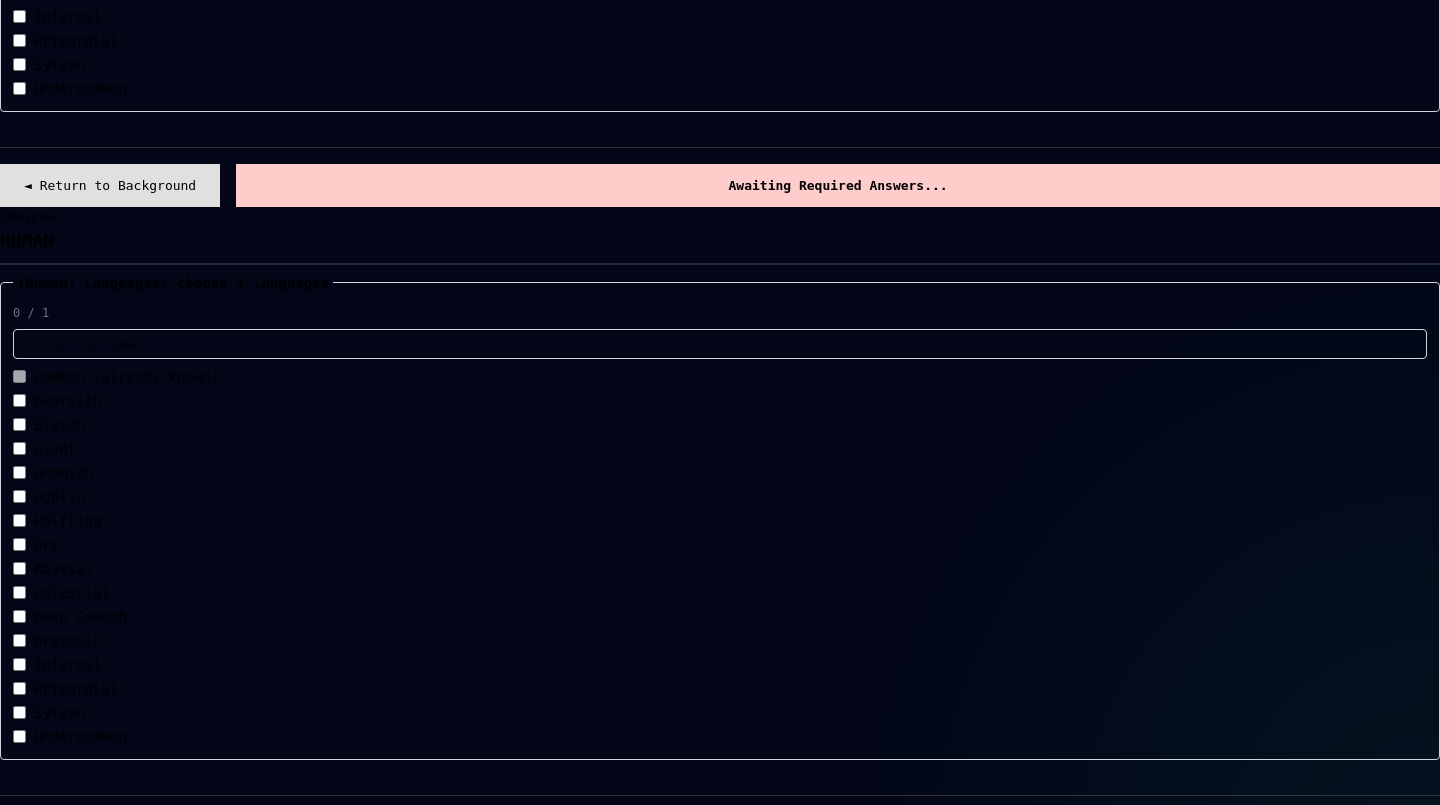
Test case: ChoicesStepContainer › disables Next until every question is answered, then enables it
(page scrolled)
Click the checkbox labelled "Dwarvish" at coordinates (20, 400), box [13, 394, 26, 407]
(page scrolled)
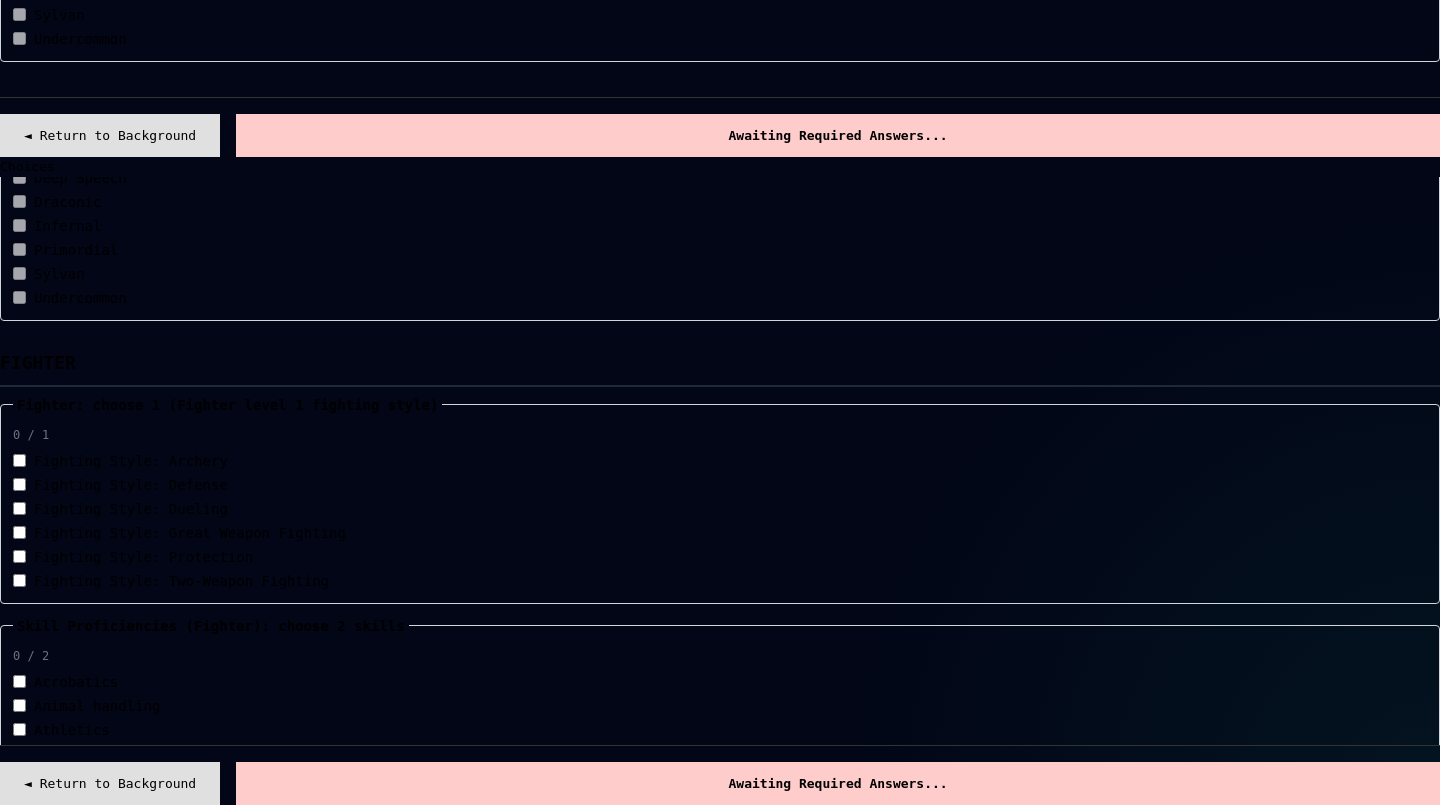
Click the checkbox labelled "Fighting Style: Archery" at coordinates (20, 460), box [13, 454, 26, 467]
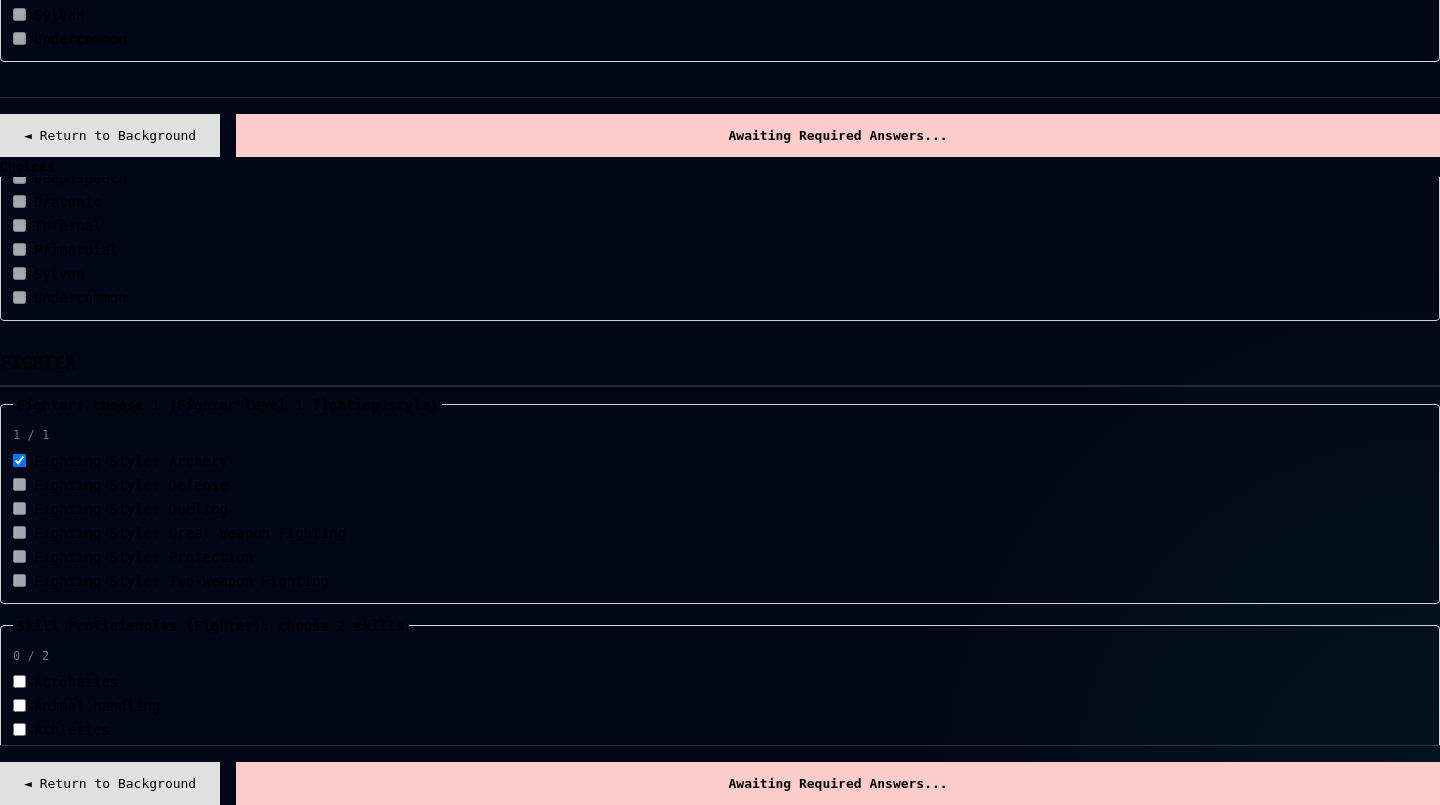
Click the checkbox labelled "Acrobatics" at coordinates (20, 682), box [13, 675, 26, 688]
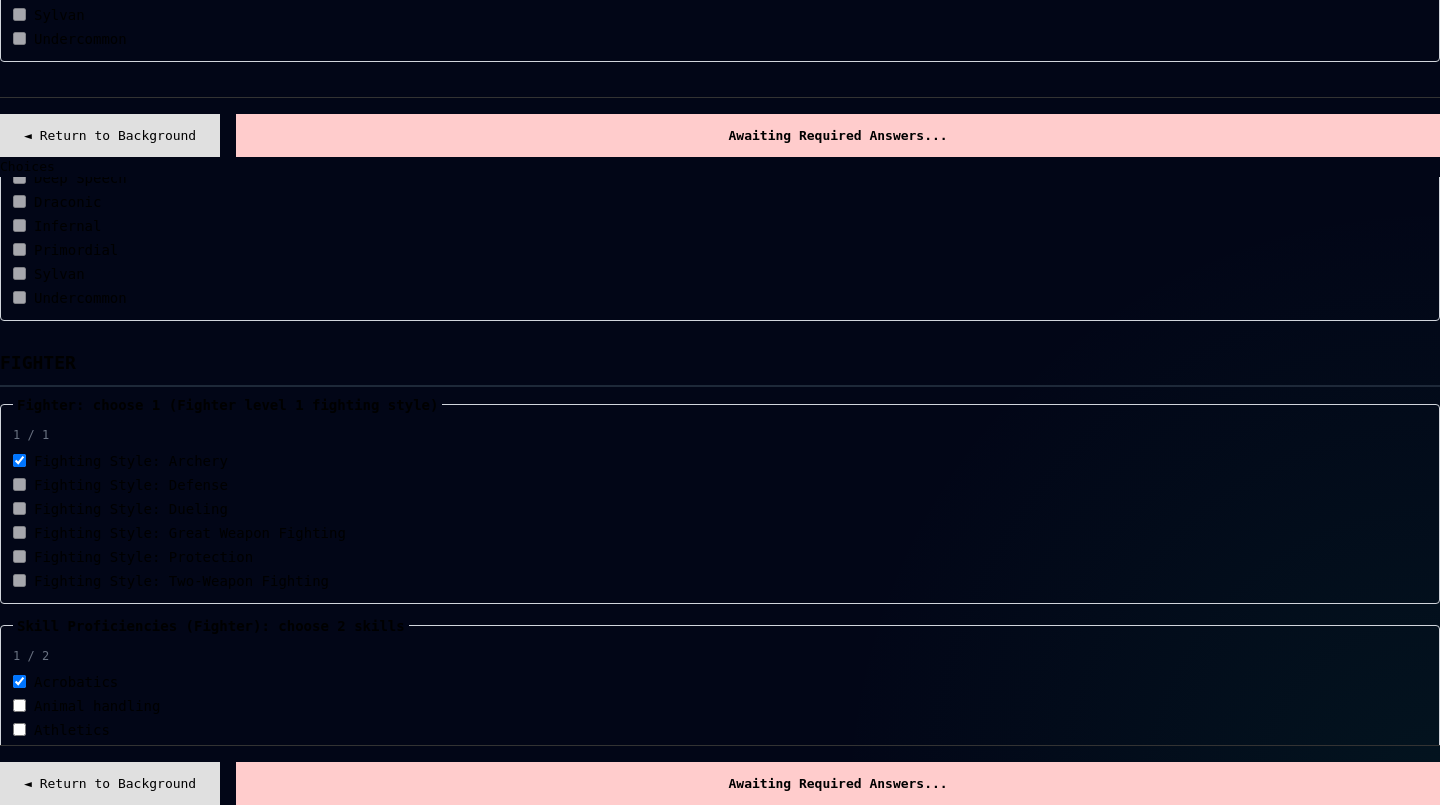
Click the checkbox labelled "Animal handling" at coordinates (20, 706), box [13, 699, 26, 712]
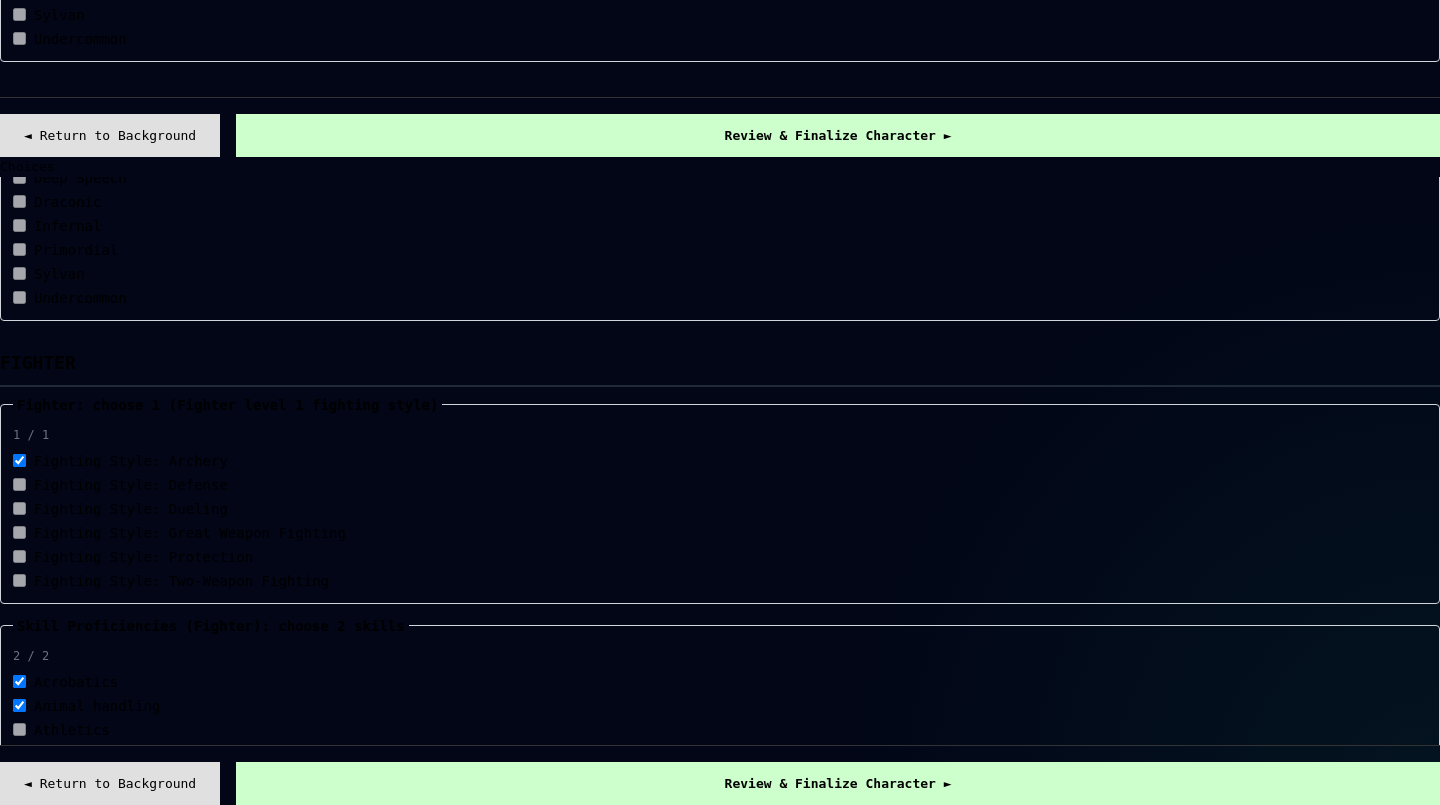
Result: the button "Review & Finalize Character ►" below "Athletics" is enabled at [236, 762, 1439, 804]
